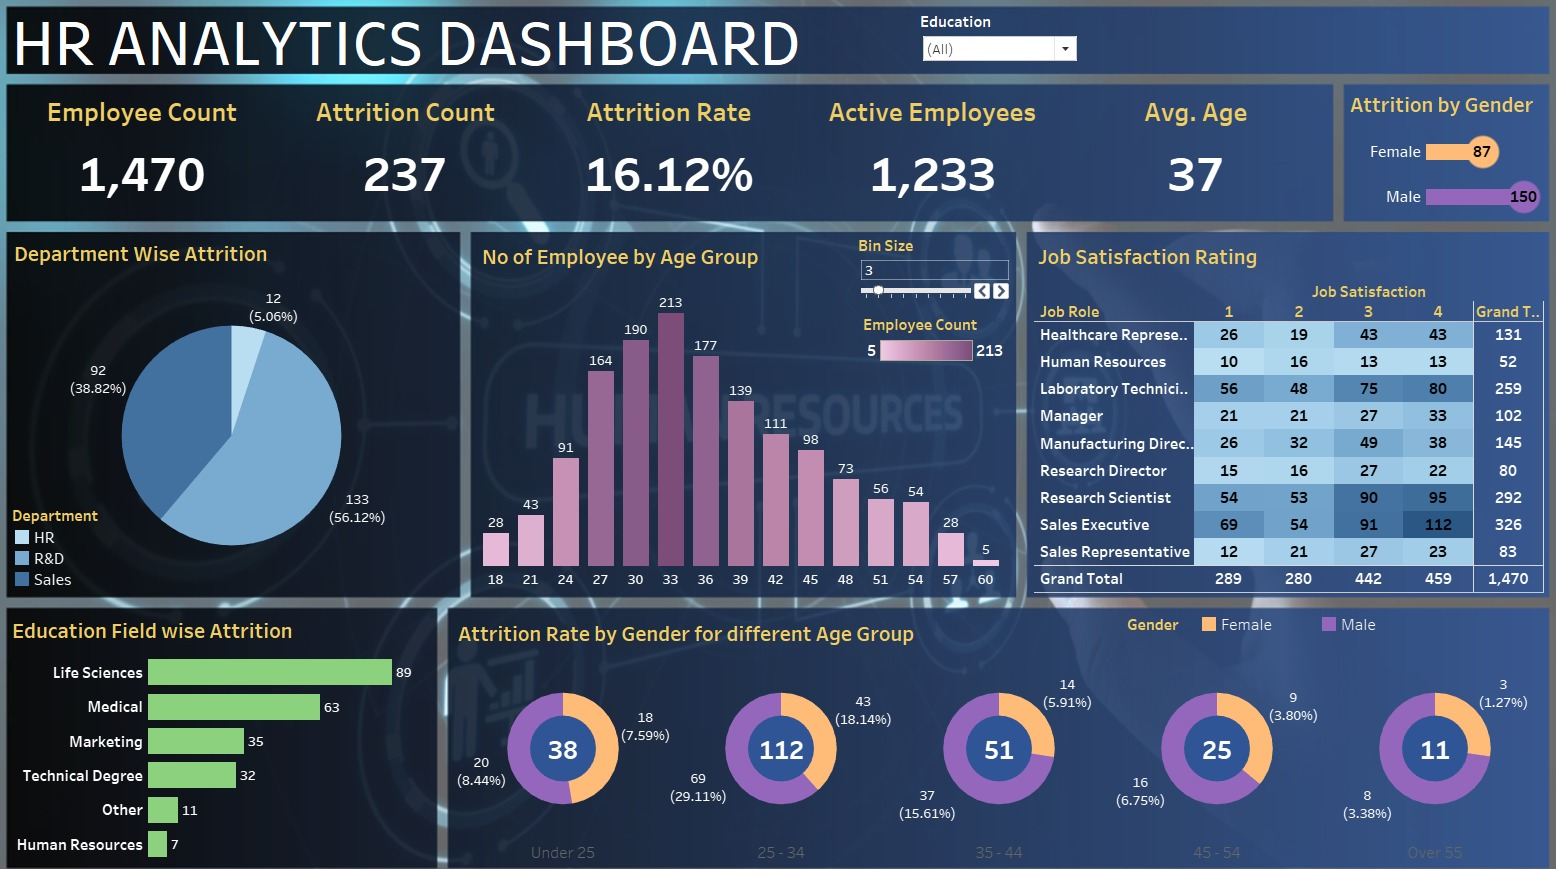

This screenshot's page, from the dashboard's own definition file:
{"tool":"tableau","page":{"name":"HR ANALYTICS DASHBOARD","canvas":[1580,900],"ordinal":0},"visuals":[{"type":"image","param":"D:/Tableau Projects/HR background.png","box":[8,8,1564,884]},{"type":"text","box":[20,22,846,61]},{"type":"filter","title":"Department Wise Attrition","param":"[federated.1d7s3ka1bykt3y10ih6fk042k13l].[none:Education:nk]","box":[932,23,160,59]},{"type":"worksheet","title":"Attrition by Gender","mark":"Automatic","rows":["Gender"],"cols":["Calculation_1387671636974415872","Calculation_1387671636974415872"],"box":[1358,98,200,133]},{"type":"worksheet","title":"KPI","mark":"Automatic","box":[22,100,1318,128]},{"type":"worksheet","title":"Department Wise Attrition","mark":"Pie","box":[22,247,443,358]},{"type":"parameter","param":"[Parameters].[Parameter 1]","box":[870,247,154,71]},{"type":"worksheet","title":"No of Employee by Age Group","mark":"Automatic","rows":["Employee Count"],"cols":["Age (bin)"],"box":[490,250,526,351]},{"type":"worksheet","title":"Job Satisfaction Rating","mark":"Square","rows":["Job Role"],"cols":["Job Satisfaction"],"box":[1046,250,510,355]},{"type":"legend","title":"No of Employee by Age Group","param":"[federated.1d7s3ka1bykt3y10ih6fk042k13l].[sum:Employee Count:qk]","box":[875,326,145,88]},{"type":"legend","title":"Department Wise Attrition","param":"[federated.1d7s3ka1bykt3y10ih6fk042k13l].[none:Department:nk]","box":[24,517,107,85]},{"type":"worksheet","title":"Education Field wise Attrition","mark":"Automatic","rows":["Education Field"],"cols":["Calculation_1387671636974415872"],"box":[20,624,422,249]},{"type":"legend","title":"Attrition Rate by Gender for different Age Group","param":"[federated.1d7s3ka1bykt3y10ih6fk042k13l].[none:Gender:nk]","box":[1139,626,418,34]},{"type":"worksheet","title":"Attrition Rate by Gender for different Age Group","mark":"Pie","rows":["Calculation_1387671637014626308","Calculation_1387671637014626308"],"cols":["CF_age band"],"box":[466,627,1090,249]}]}

Visuals, with their boxes in screenshot pixels (x1, y1, x2, y2), scaled from the page's 1580x900 canvas onto the 1559x869 screenshot:
image: bbox=[8, 8, 1551, 861]
text: bbox=[20, 21, 854, 80]
"Department Wise Attrition" filter: bbox=[920, 22, 1077, 79]
"Attrition by Gender" worksheet: bbox=[1340, 95, 1537, 223]
"KPI" worksheet: bbox=[22, 97, 1322, 220]
"Department Wise Attrition" worksheet (Pie marks): bbox=[22, 238, 459, 584]
parameter: bbox=[858, 238, 1010, 307]
"No of Employee by Age Group" worksheet: bbox=[483, 241, 1002, 580]
"Job Satisfaction Rating" worksheet (Square marks): bbox=[1032, 241, 1535, 584]
"No of Employee by Age Group" legend: bbox=[863, 315, 1006, 400]
"Department Wise Attrition" legend: bbox=[24, 499, 129, 581]
"Education Field wise Attrition" worksheet: bbox=[20, 603, 436, 843]
"Attrition Rate by Gender for different Age Group" legend: bbox=[1124, 604, 1536, 637]
"Attrition Rate by Gender for different Age Group" worksheet (Pie marks): bbox=[460, 605, 1535, 846]
